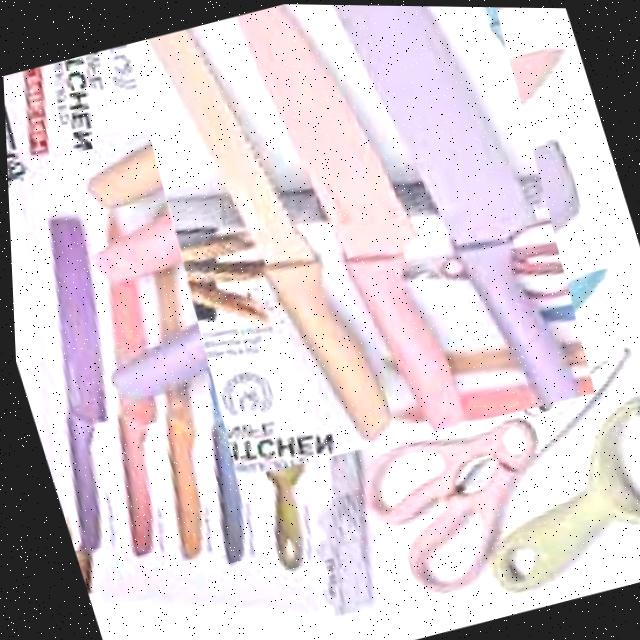knife: (140, 5, 395, 463), (321, 4, 586, 424), (234, 3, 474, 450)
